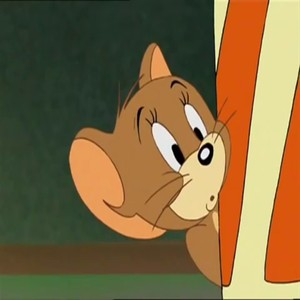Jerry: (55, 40, 227, 251)
